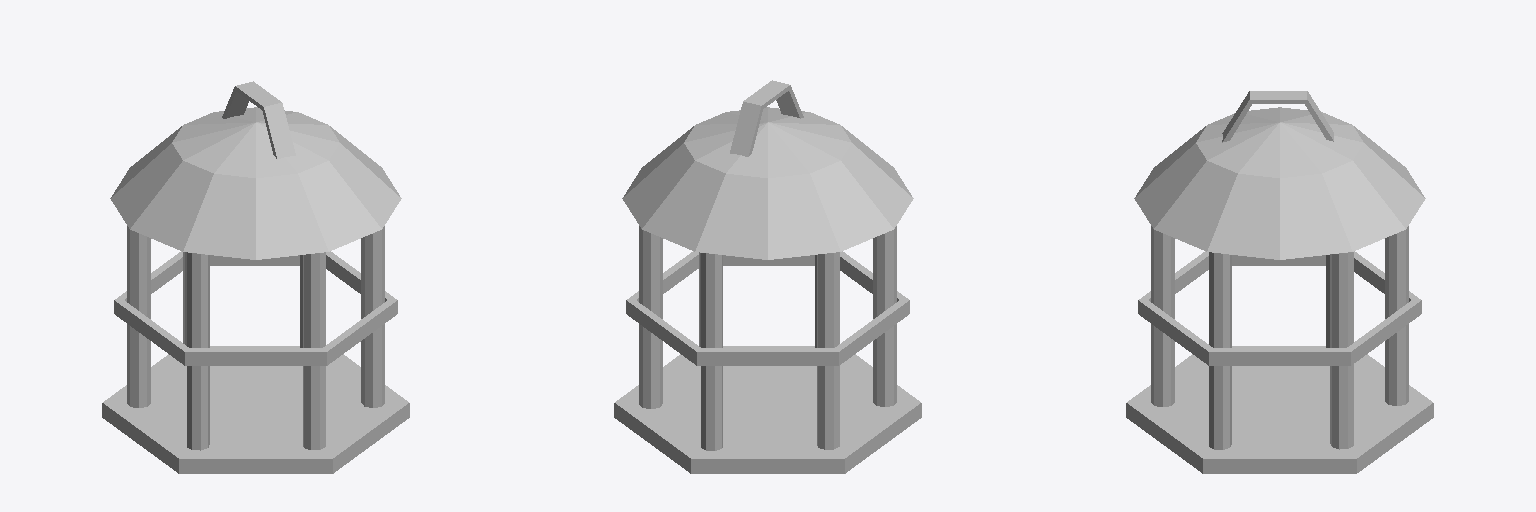
The model's file is misc07.obj.
3 views of the same model, side by side, from view 1: azimuth 30°, elevation 25°; view 2: azimuth 150°, elevation 25°; view 3: azimuth 270°, elevation 25° (orthographic).
Parts seen in each view (by area): view 1: misc07; view 2: misc07; view 3: misc07.
Part boxes in pixels (left/top/right/bottom): misc07: left=102, top=81, right=409, bottom=473; misc07: left=614, top=80, right=921, bottom=473; misc07: left=1126, top=91, right=1433, bottom=473.
Bounding box in the file's own units: 0.007 × 0.0086 × 0.0074.